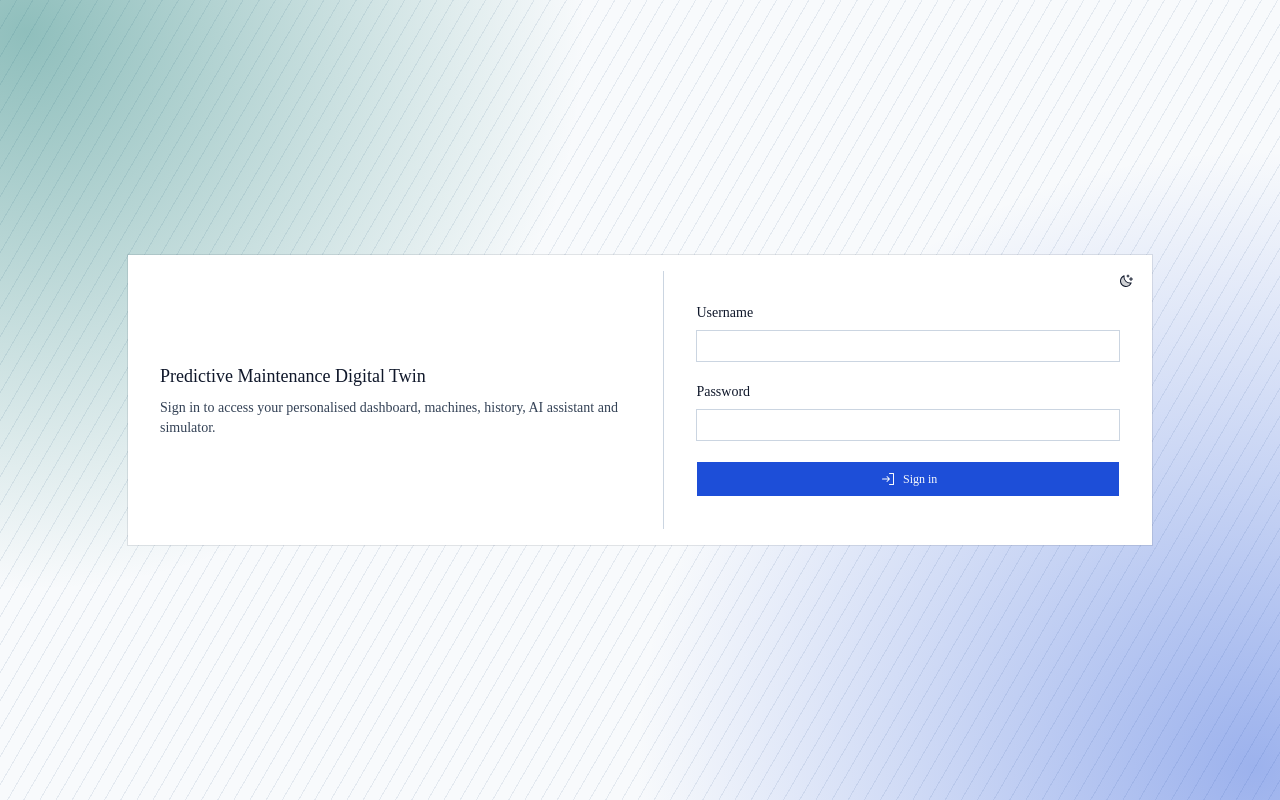
Test: auth forms › explains a suspended account sign-in rejection
The image size is (1280, 800).
Step 1. Type "test2@test.com" into the field labelled "Username" → (908, 346), box top-left (696, 330), bottom-right (1120, 362)
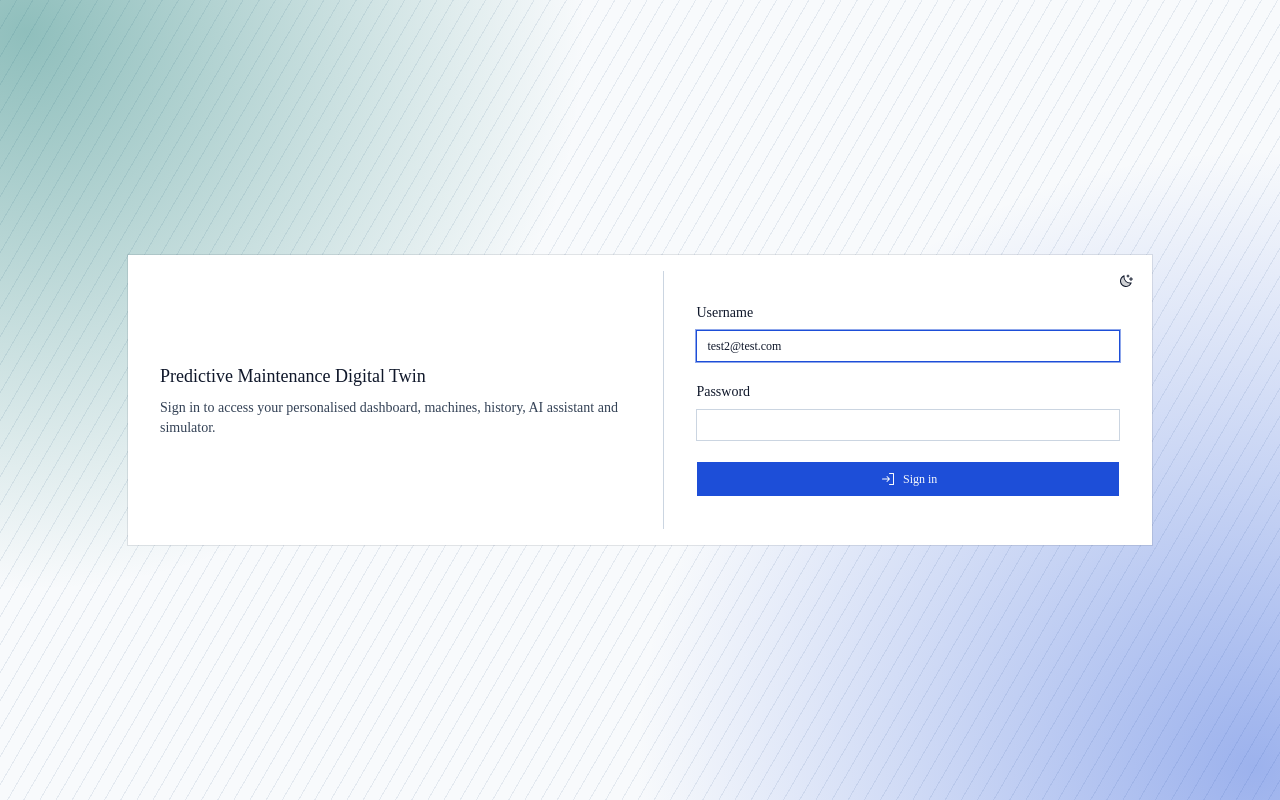
Step 2. Type "password2" into the password field labelled "Password" → (908, 425), box top-left (696, 409), bottom-right (1120, 441)
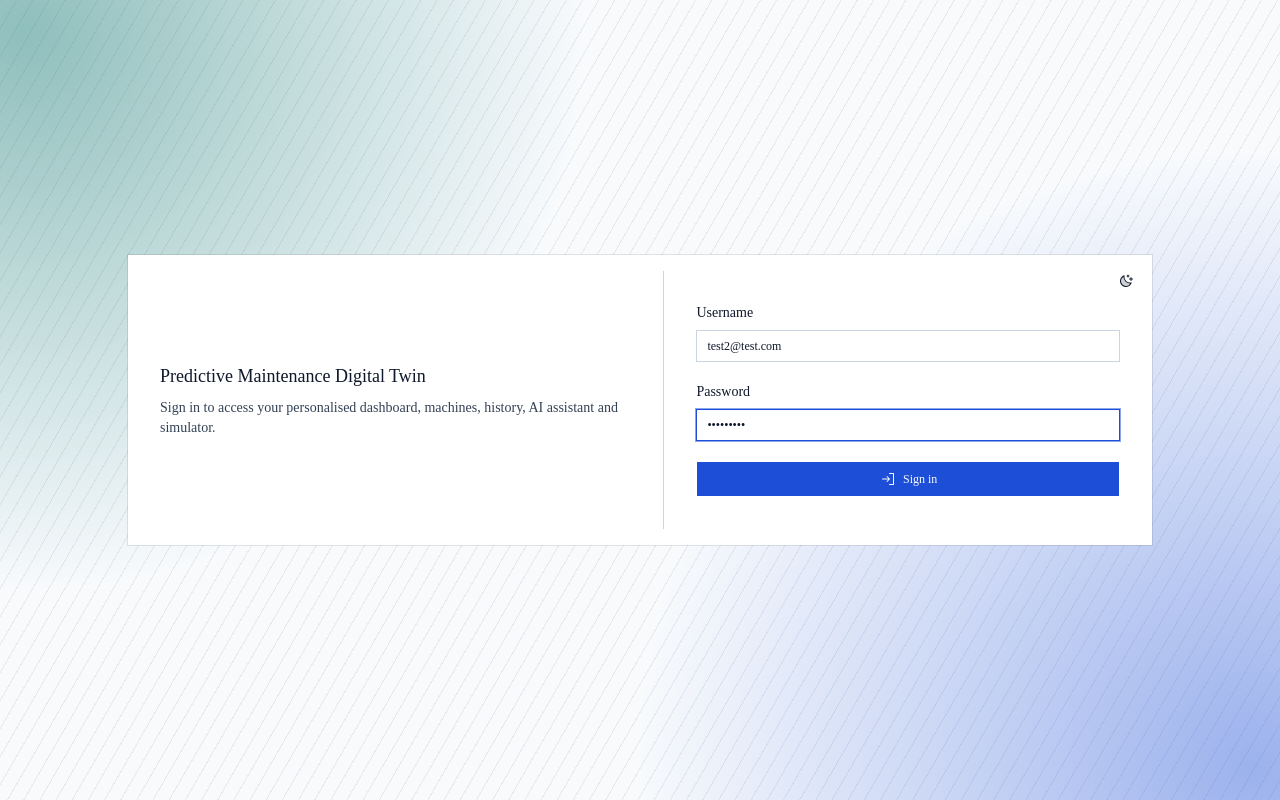
Step 3. Click the button "Sign in" → (908, 479), box top-left (696, 461), bottom-right (1120, 497)
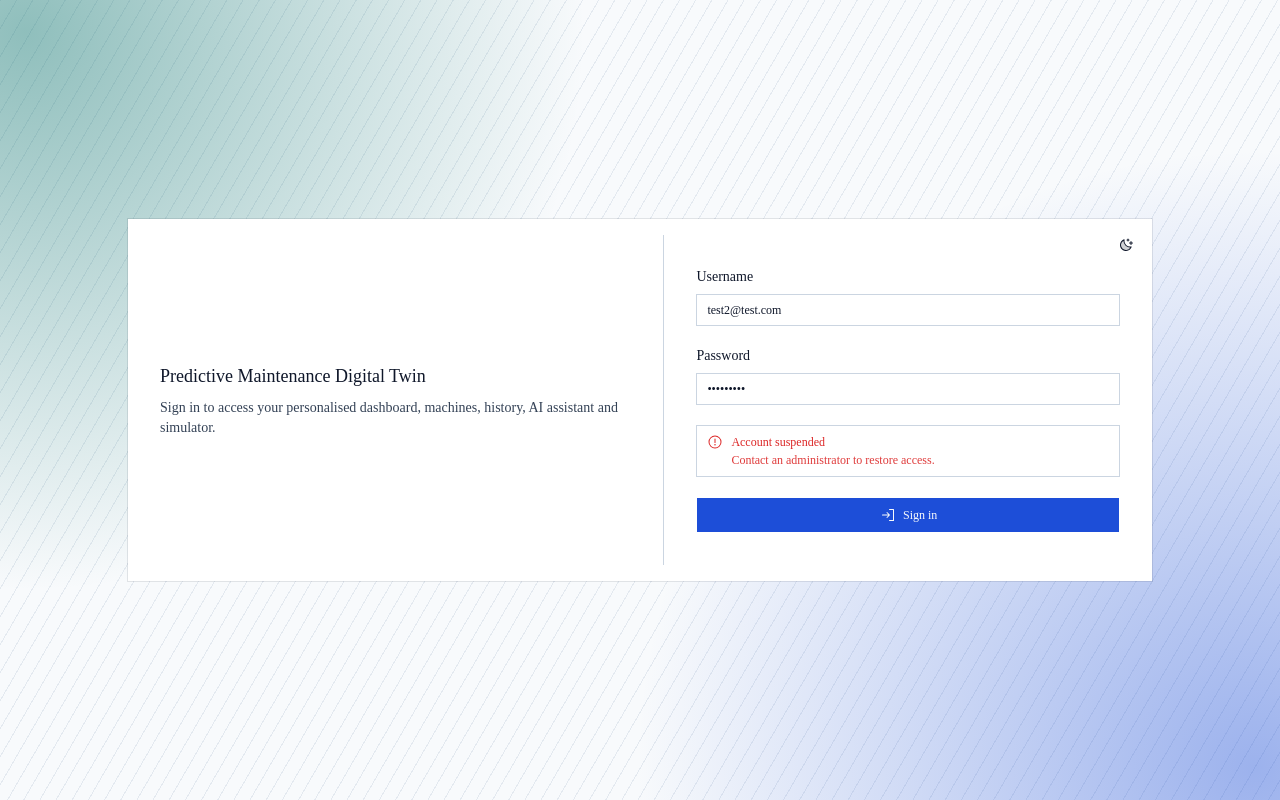
Expected: the text "Account suspended" is shown, top-left (731, 435), bottom-right (825, 449)
Expected: the text "Contact an administrator to restore access." is shown, top-left (731, 453), bottom-right (935, 467)
